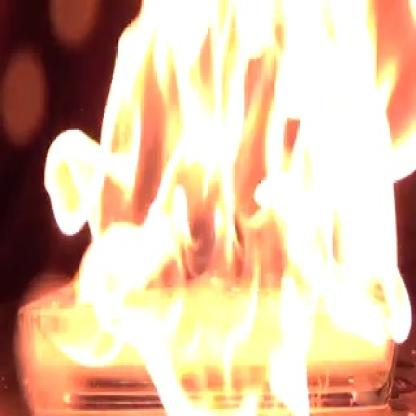fire: (32, 0, 416, 416)
